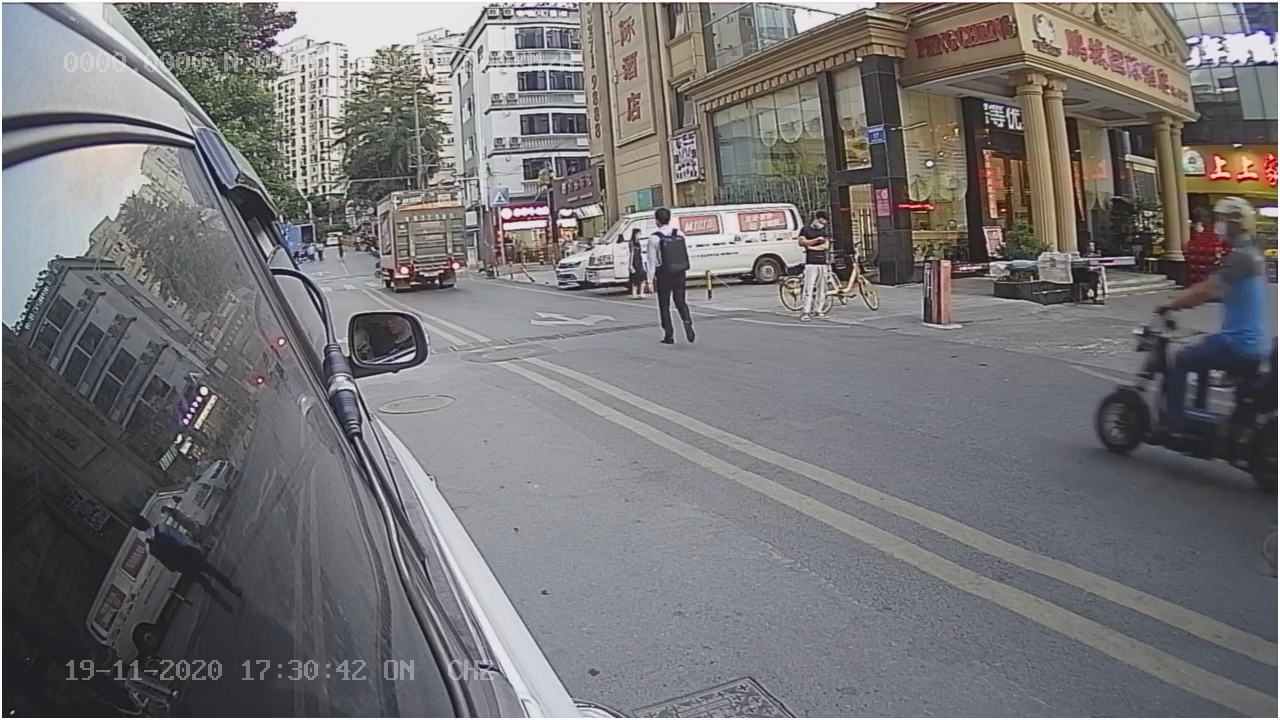person: (640, 208, 703, 340)
